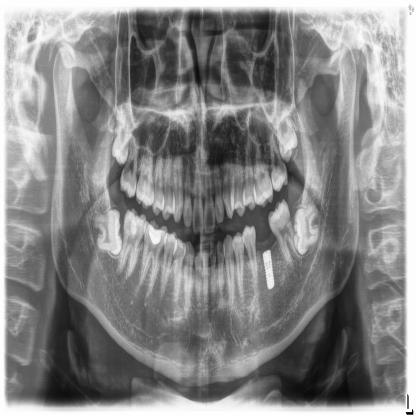ITI: (261, 245, 277, 292)
